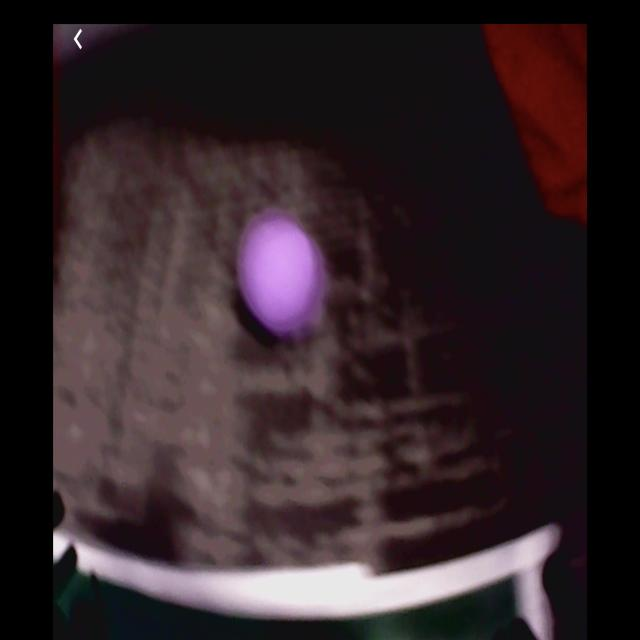ball: (242, 213, 321, 329)
